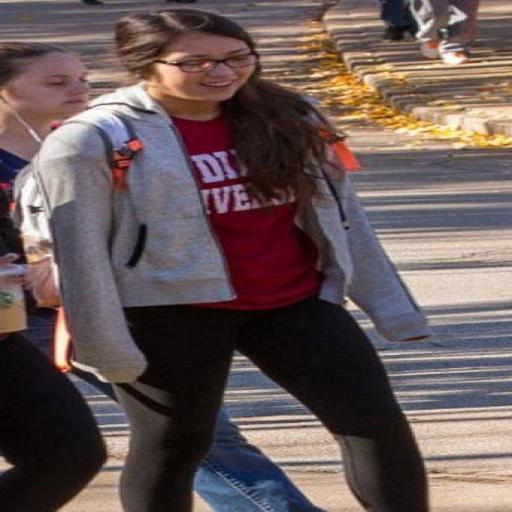person: (33, 9, 429, 511), (0, 330, 105, 511), (0, 42, 89, 192), (410, 0, 479, 65), (380, 0, 416, 40)
